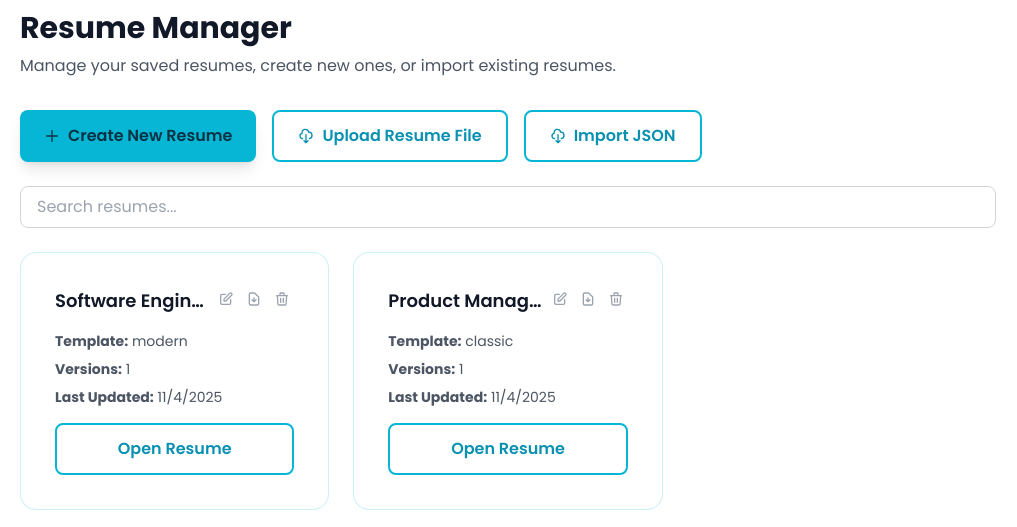
Test: ResumeManager Component › Search and Filter › should filter resumes by search term
The image size is (1017, 527).
Type "Software" into the field with placeholder "Search resumes..." at [508, 207], box [20,186,996,228]
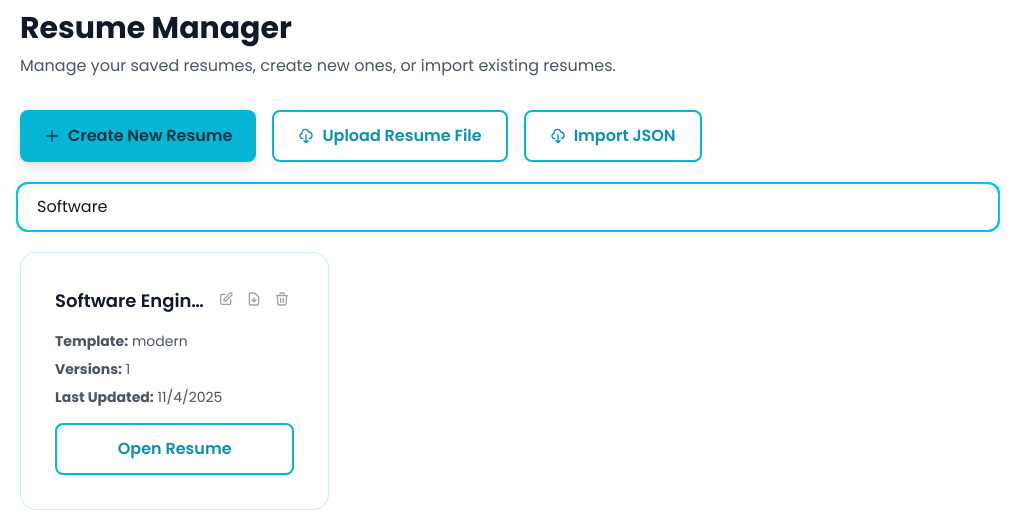
Expected: the heading "Software Engineer Resume" is shown, [55,287,214,315]
Result: the heading "Product Manager Resume" is gone
